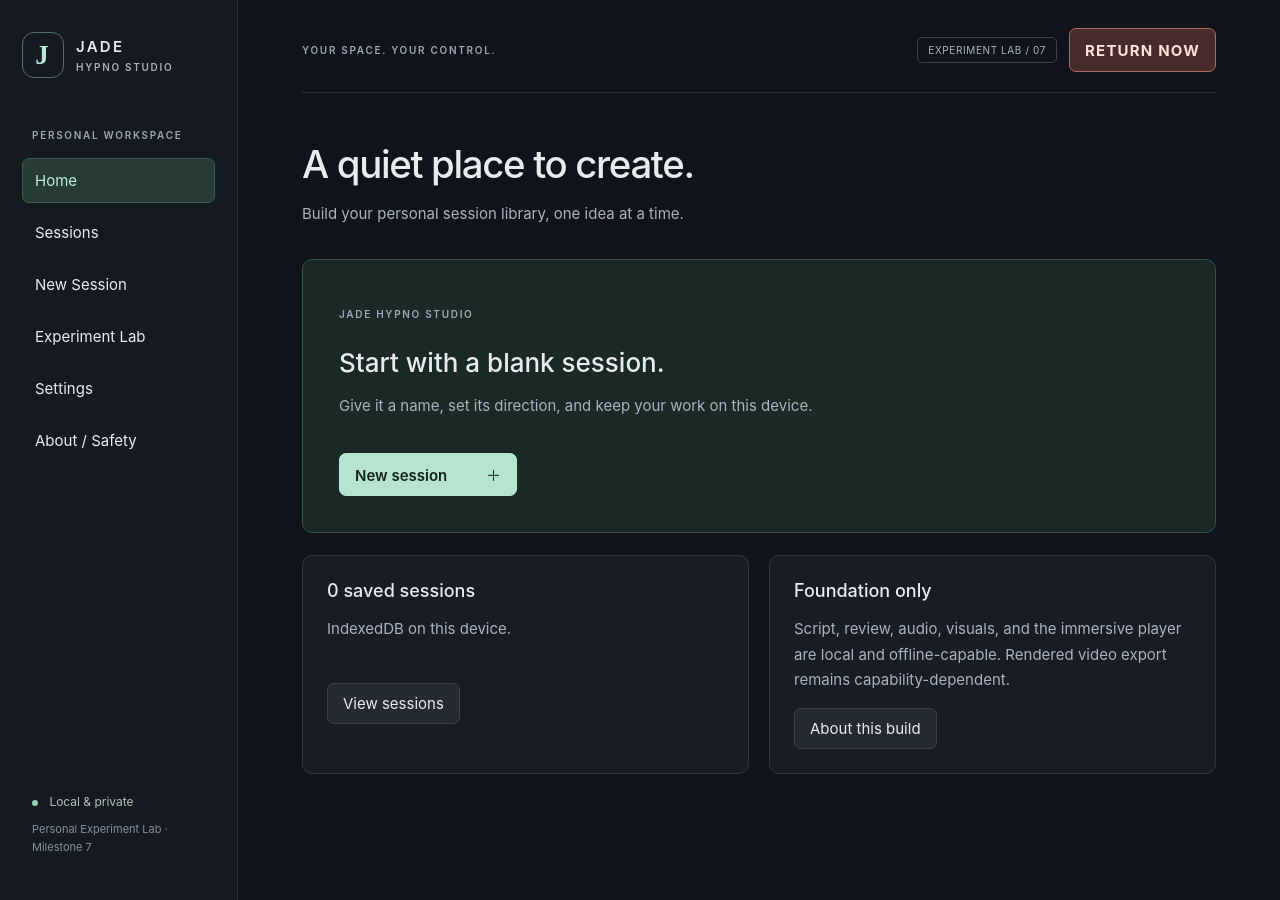
Scenario: renames and duplicates sessions through the list actions
expect the button "New session ＋" is enabled: met, box [339,453,517,496]
Click the button "Sessions".
click(118, 232)  # box [22,210,215,255]
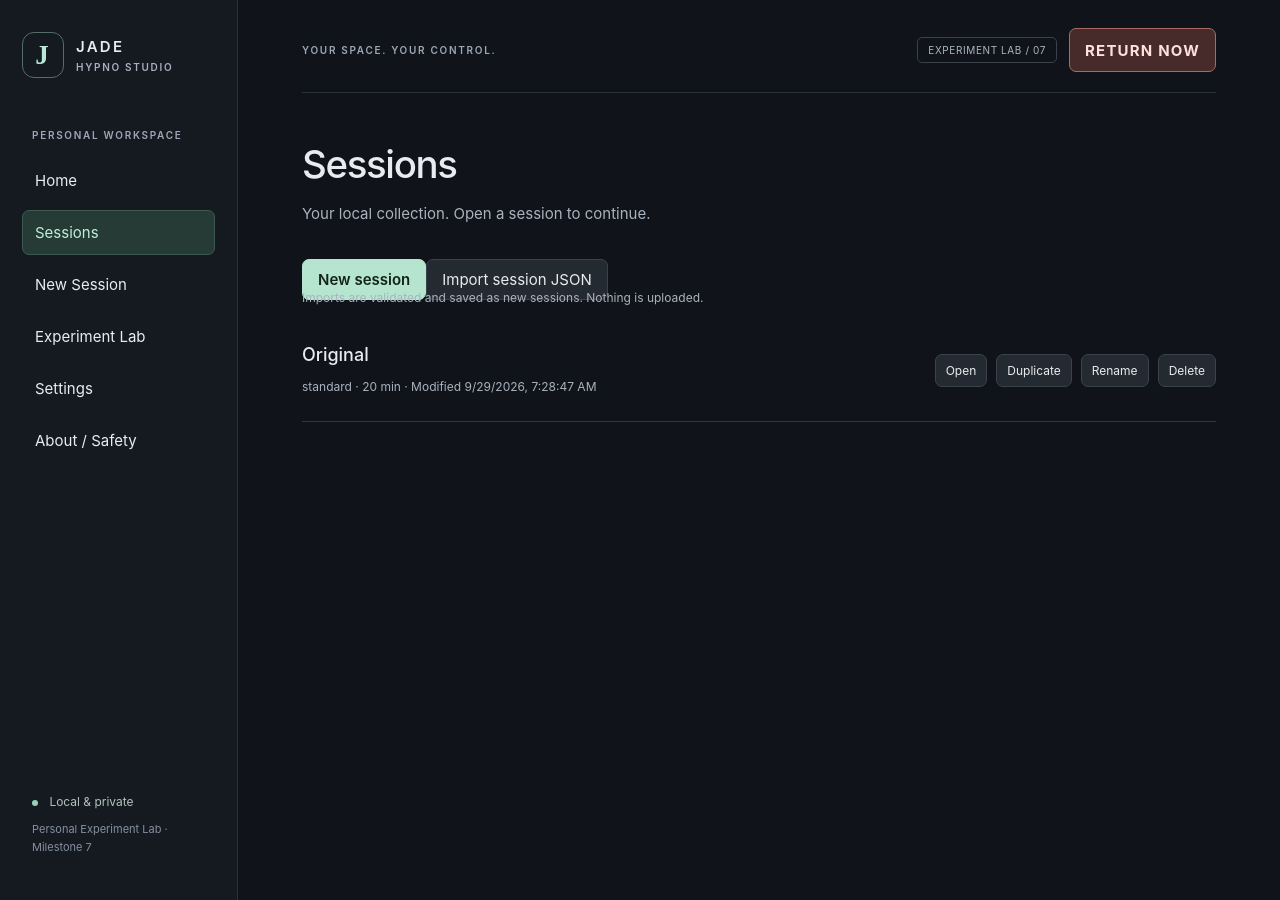
Click the button named "Rename Original".
click(1115, 371)  # box [1081,354,1149,387]
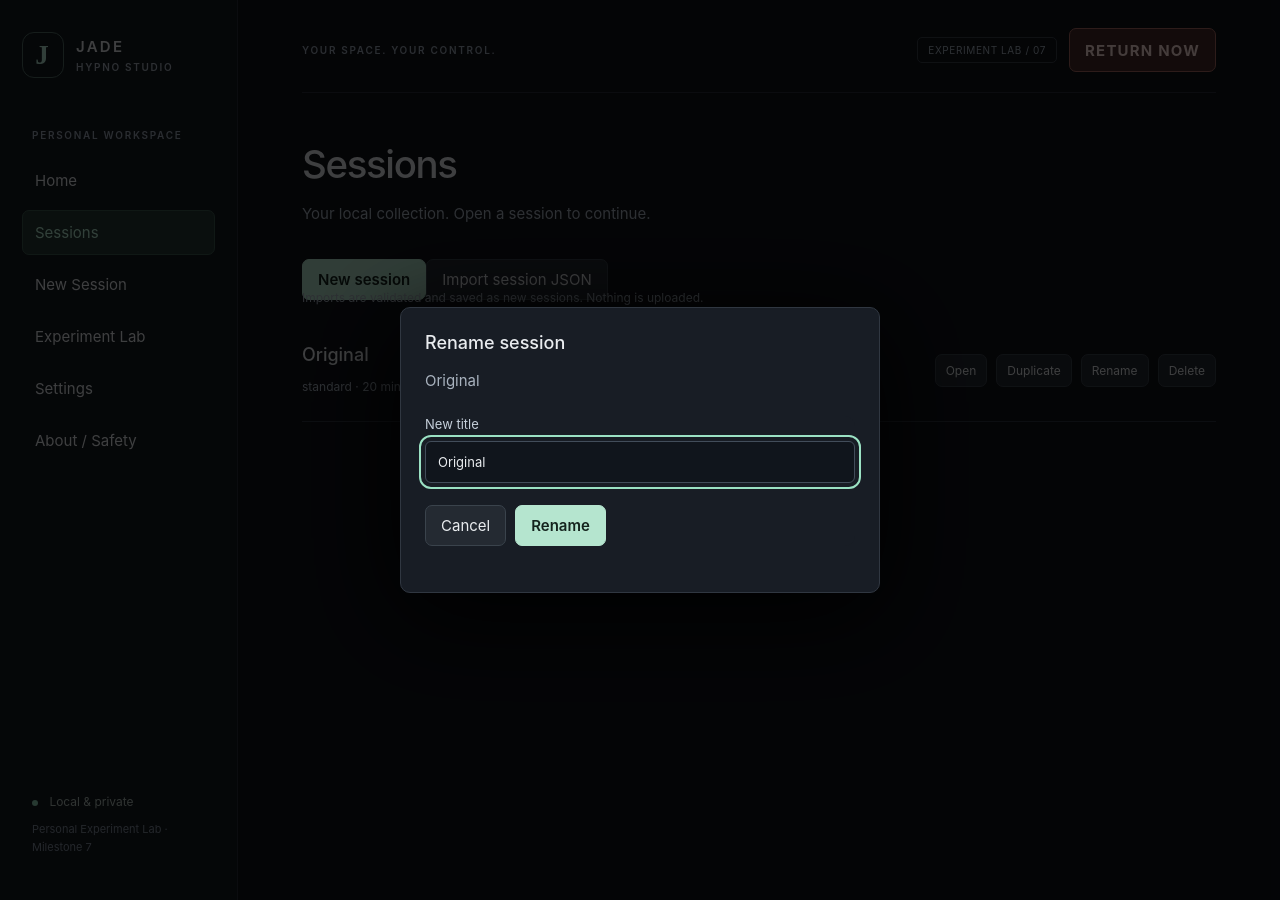
Replace the text in the field labelled "New title" with "Renamed" at (640, 462), box [425,441,855,483]
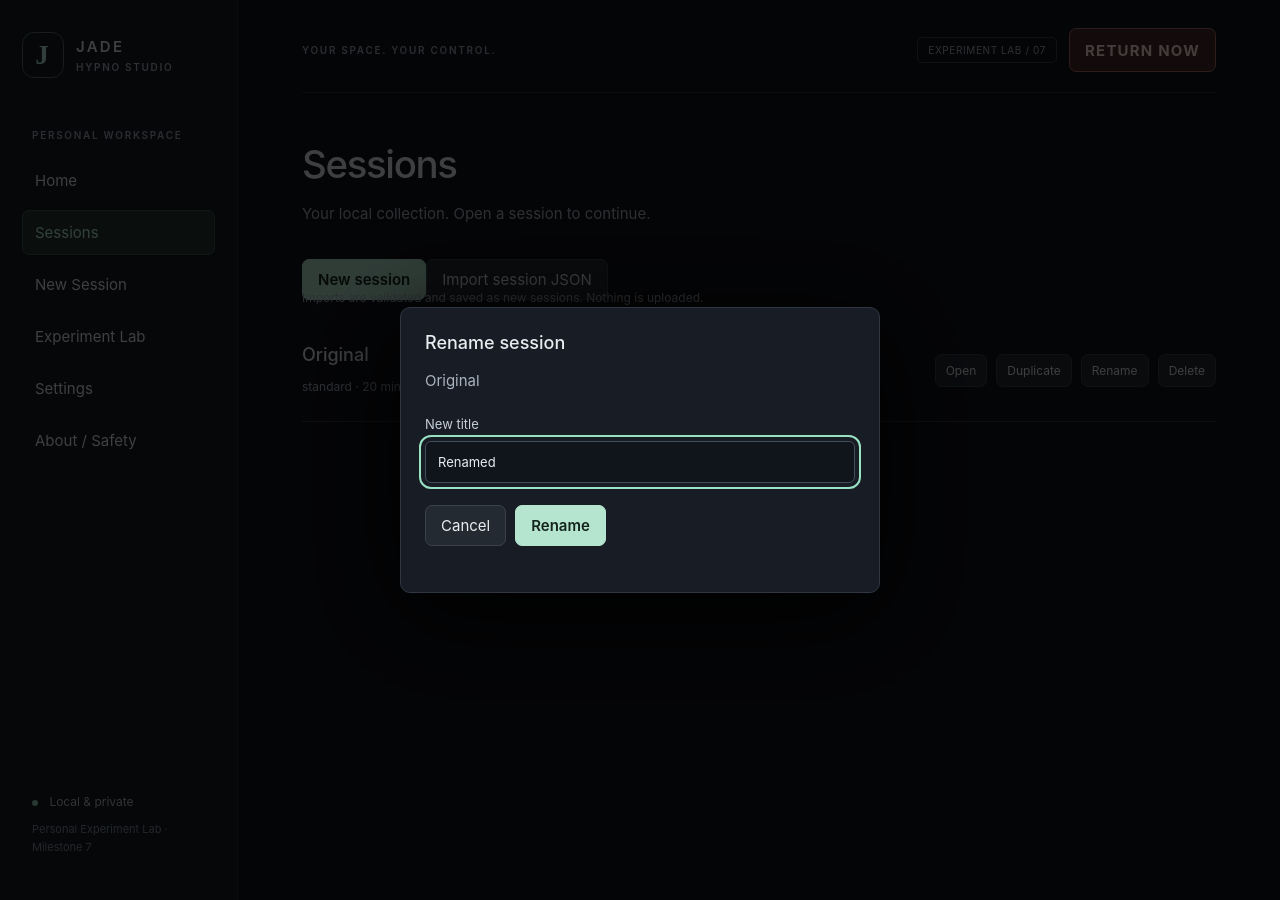
Click the button "Rename".
click(560, 525)  # box [515,505,606,546]
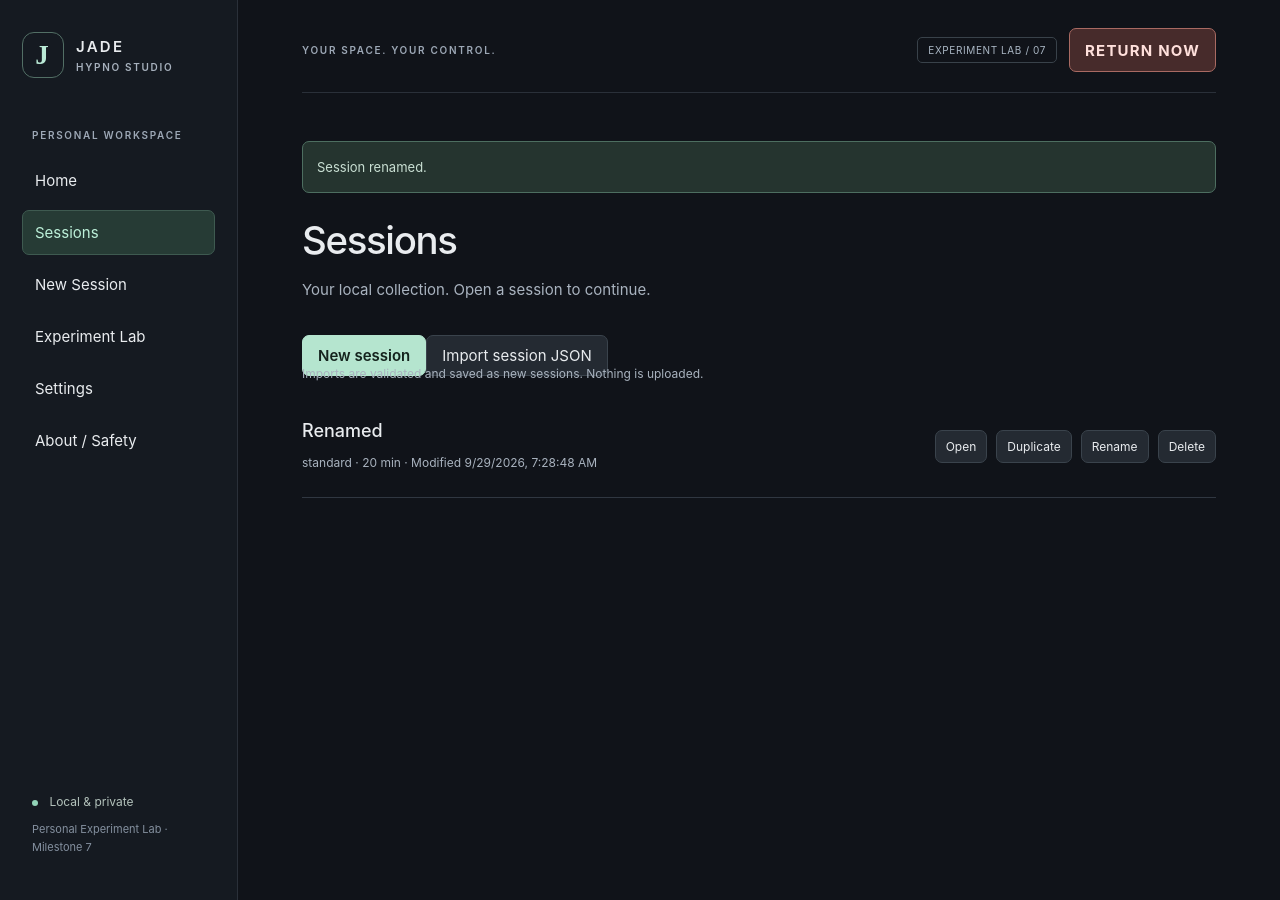
Click the button named "Duplicate Renamed".
click(1034, 447)  # box [996,430,1072,463]
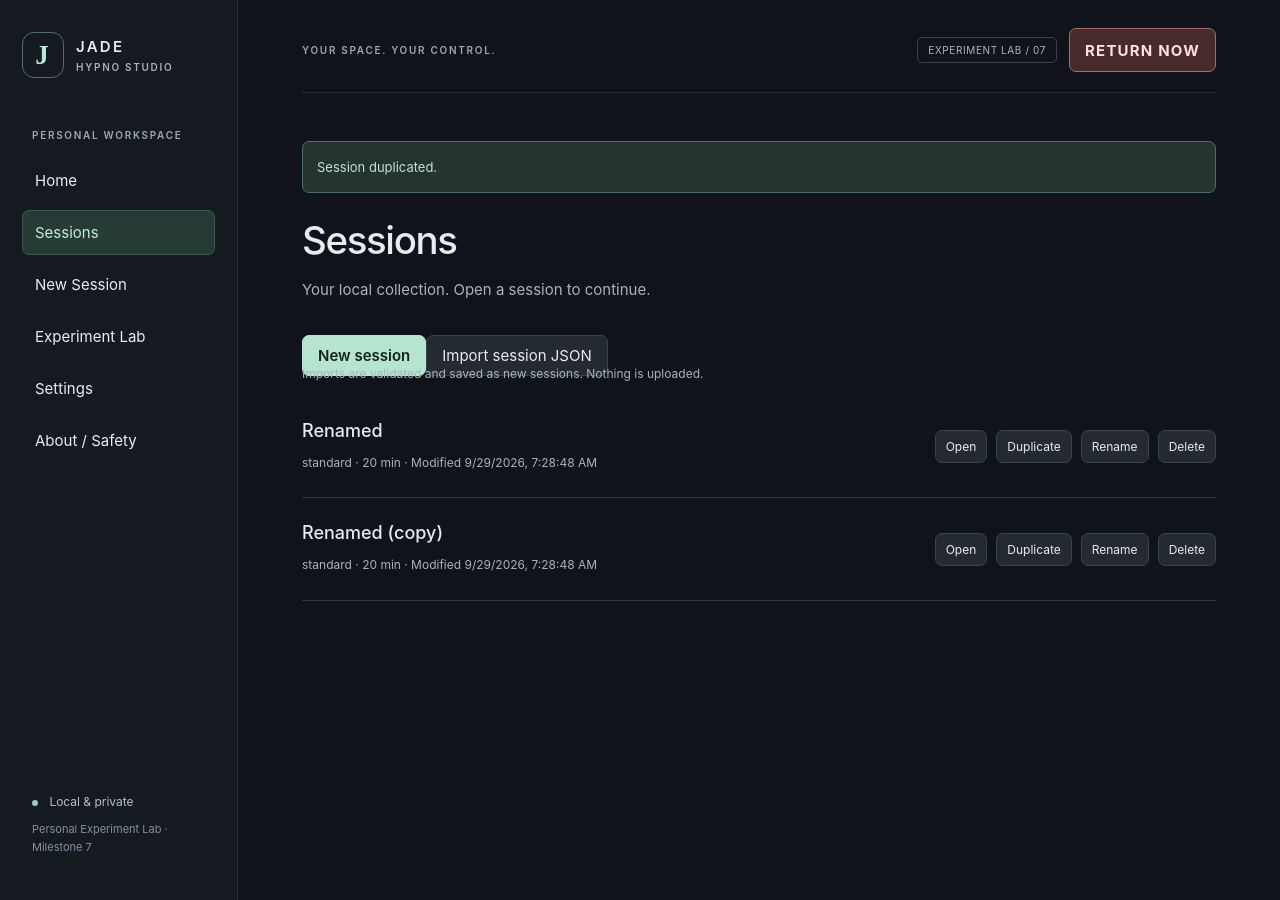
expect the heading "Renamed (copy)" is shown: met, box [302,522,443,543]
